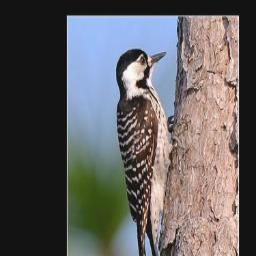Woodpecker: (113, 42, 179, 256)
